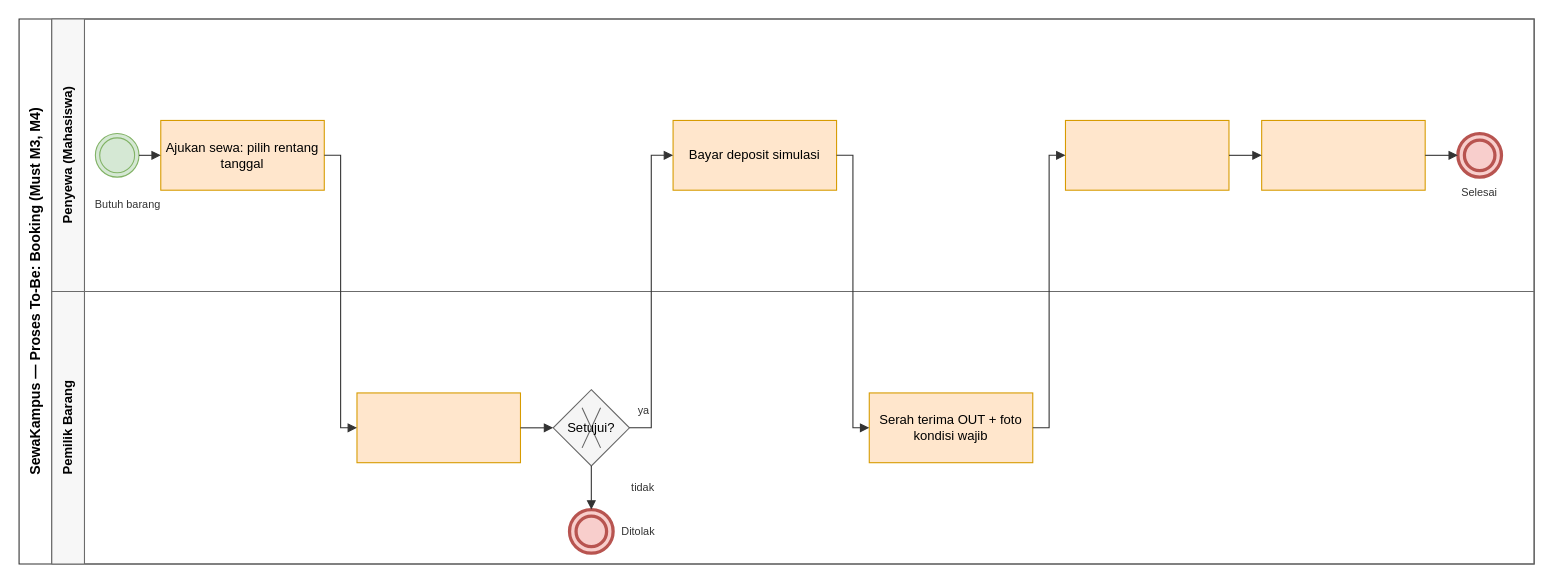
The diagram is 1553 pixels wide and 583 high, and some of its shapes have lost their labels. The centre of each missing label's shape, as x and y in pixels:
Beri rating dan ulasan: (x=1343, y=154)
Pengembalian RETURN + foto kondisi wajib: (x=1146, y=154)
Periksa pengajuan dan profil penyewa: (x=438, y=427)
